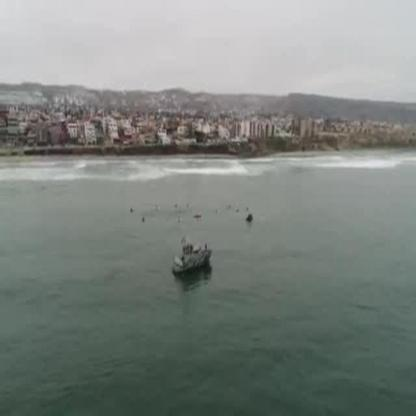Boat: (169, 236, 217, 278)
